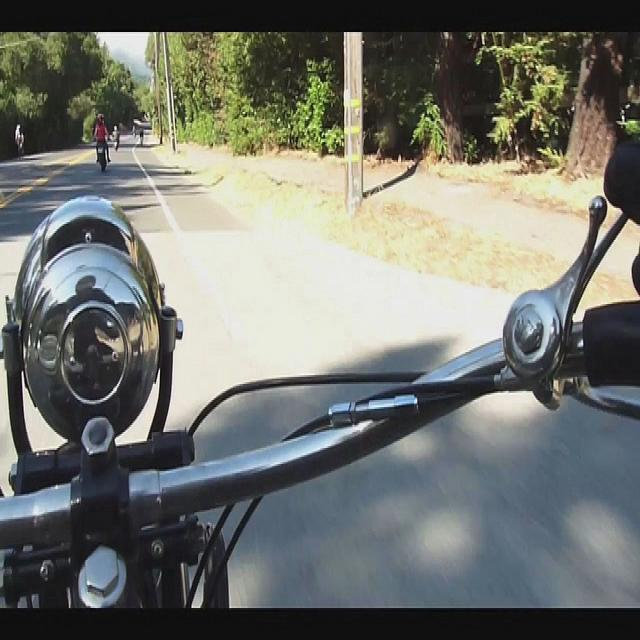motor: (0, 95, 640, 607), (96, 139, 107, 173), (114, 142, 119, 150)
